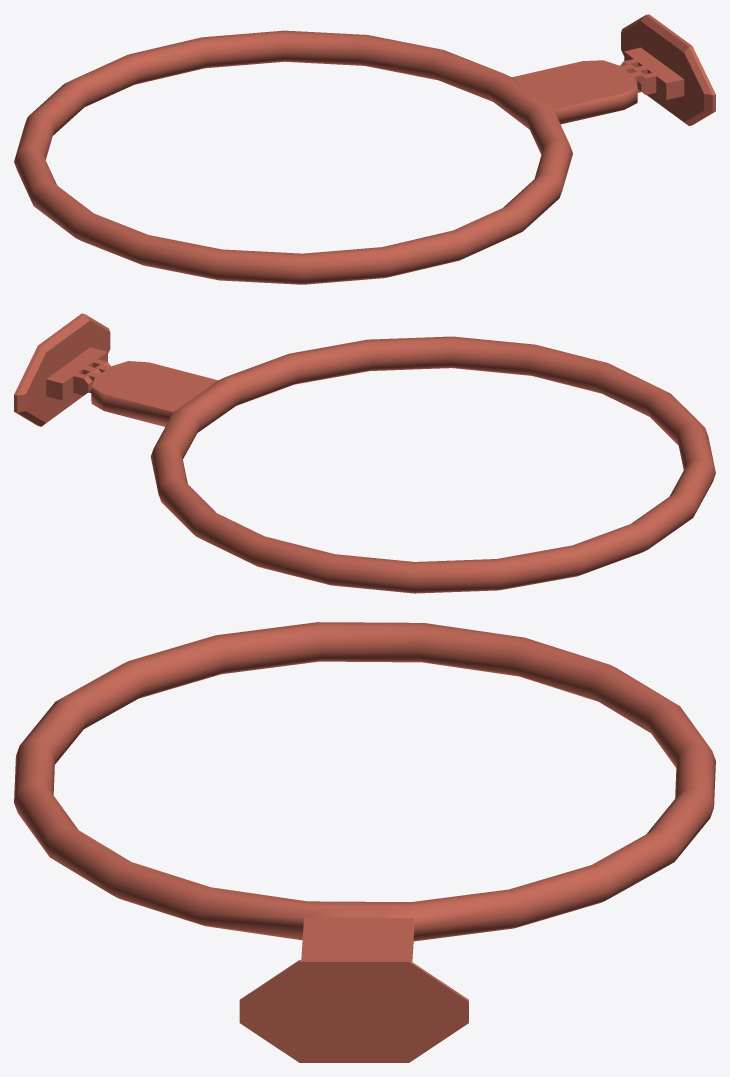
The model's file is BasketballHoop.fbx.
3 views of the same model, one above another, from view 1: azimuth 30°, elevation 25°; view 2: azimuth 150°, elevation 25°; view 3: azimuth 270°, elevation 25° (orthographic). The views are drawn at different scales.
Visible parts, largest first — view 1: Ring, Hoop; view 2: Ring, Hoop; view 3: Ring, Hoop.
Part boxes in pixels (left/top/right/bottom): Ring: left=14, top=30, right=644, bottom=284; Hoop: left=620, top=14, right=715, bottom=125; Ring: left=85, top=336, right=715, bottom=593; Hoop: left=14, top=313, right=110, bottom=426; Ring: left=14, top=622, right=715, bottom=961; Hoop: left=239, top=960, right=468, bottom=1062.
Bounding box in the file's own units: 52.86 × 6.55 × 41.39.
